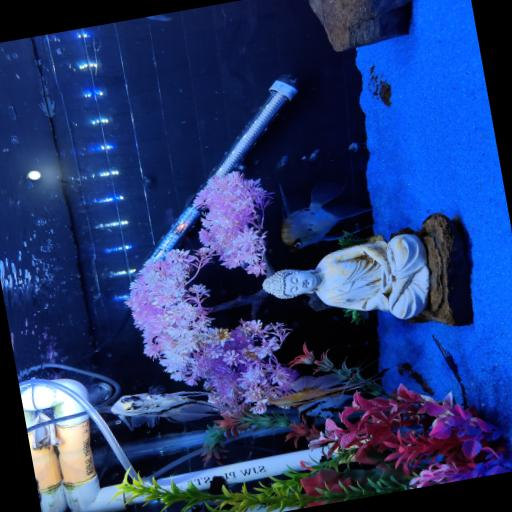Fish: (281, 181, 372, 251), (111, 386, 221, 430), (269, 369, 388, 407), (147, 14, 172, 21), (50, 500, 61, 511), (349, 142, 359, 152)
